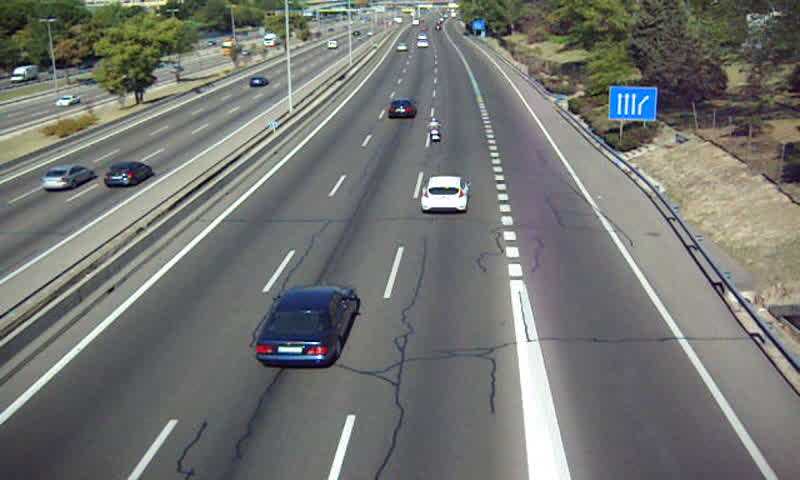car: (253, 287, 357, 368), (421, 176, 469, 213), (389, 98, 416, 120)
motorcycle: (426, 117, 444, 144)
